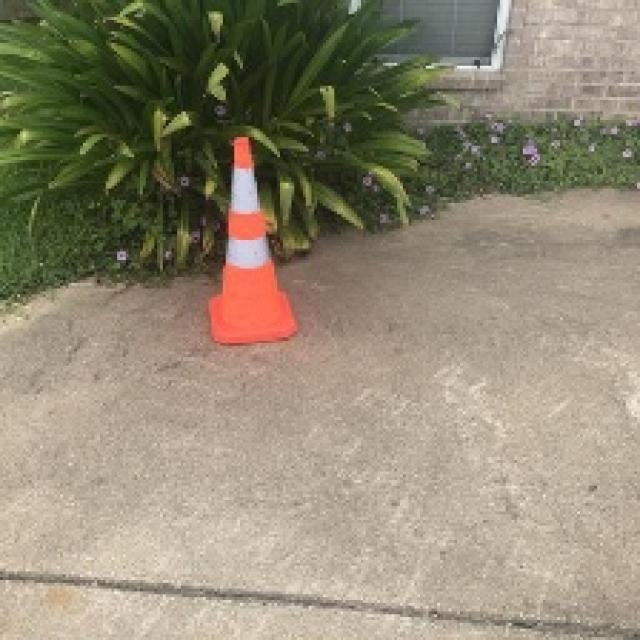cone: (203, 128, 299, 352)
